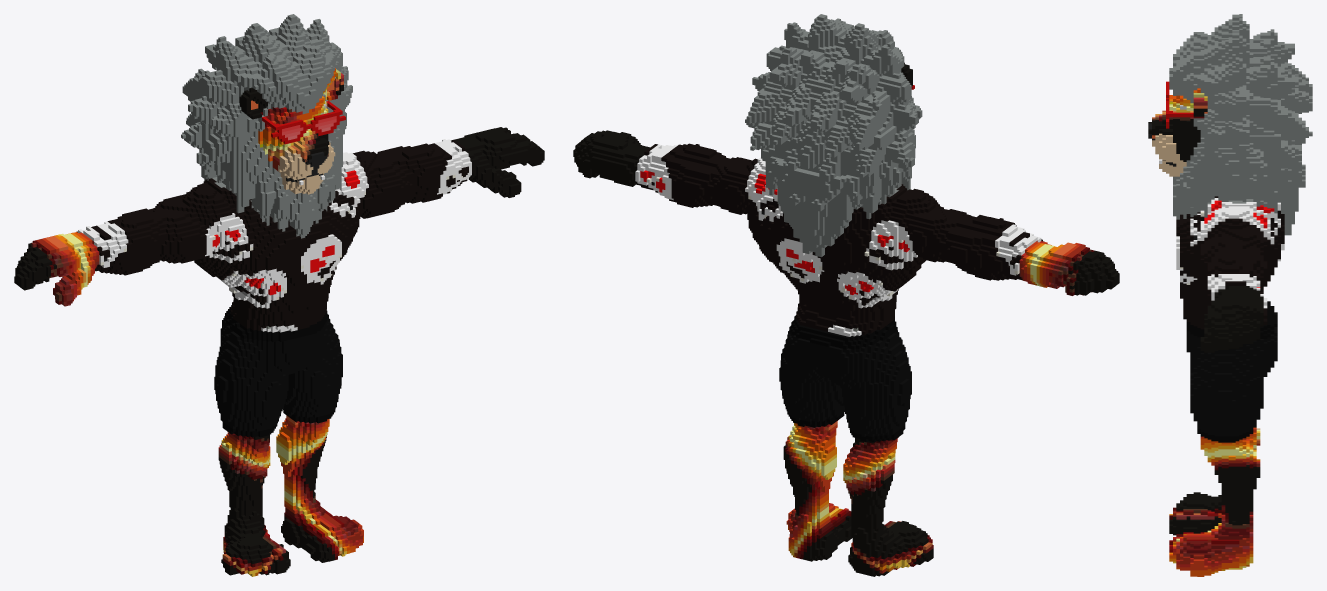
Rendered from 348-DkxWc9yU.fbx.
3 views of the same model, side by side, from view 1: azimuth 30°, elevation 25°; view 2: azimuth 150°, elevation 25°; view 3: azimuth 270°, elevation 25° (orthographic). The views are drawn at different scales.
Parts seen in each view (by area): view 1: standard; view 2: standard; view 3: standard.
Part boxes in pixels (x1,y1,x2,y2): standard: (14, 14, 544, 576); standard: (573, 14, 1119, 576); standard: (1148, 14, 1312, 576).
Size of the model in its own units: 17.2 by 16.5 by 4.7.
Materials: 5 (5 with a texture image).
